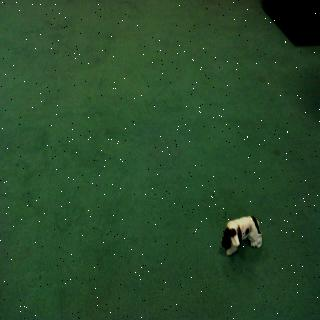dog: (219, 213, 266, 261)
